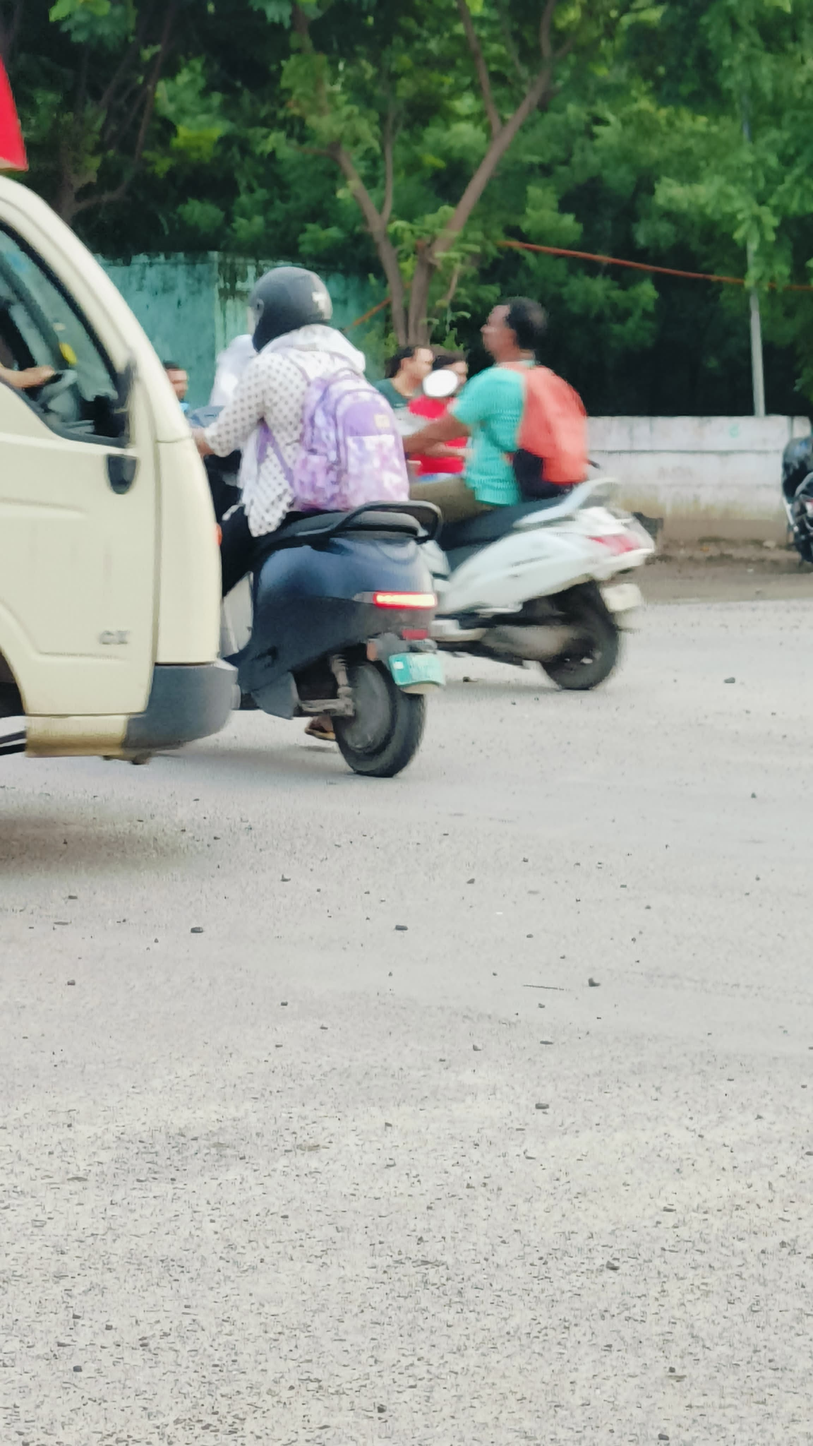BikeWithRider: (170, 256, 457, 788), (378, 285, 671, 699)
Helmet: (237, 257, 345, 359)
NoHelmet: (470, 288, 560, 375)
